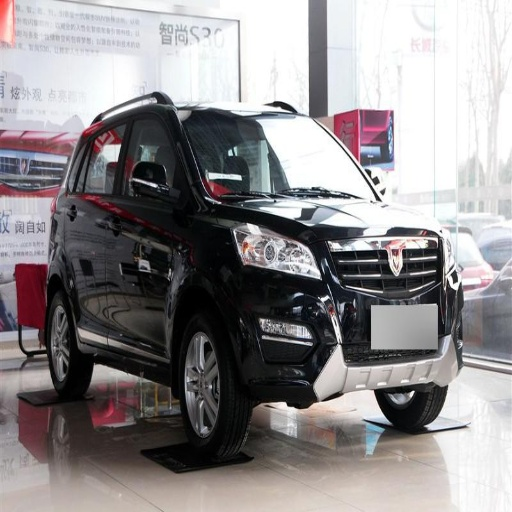front_bumper: (236, 227, 456, 399)
front_right_door: (105, 107, 185, 347)
front_right_light: (233, 222, 321, 278)
